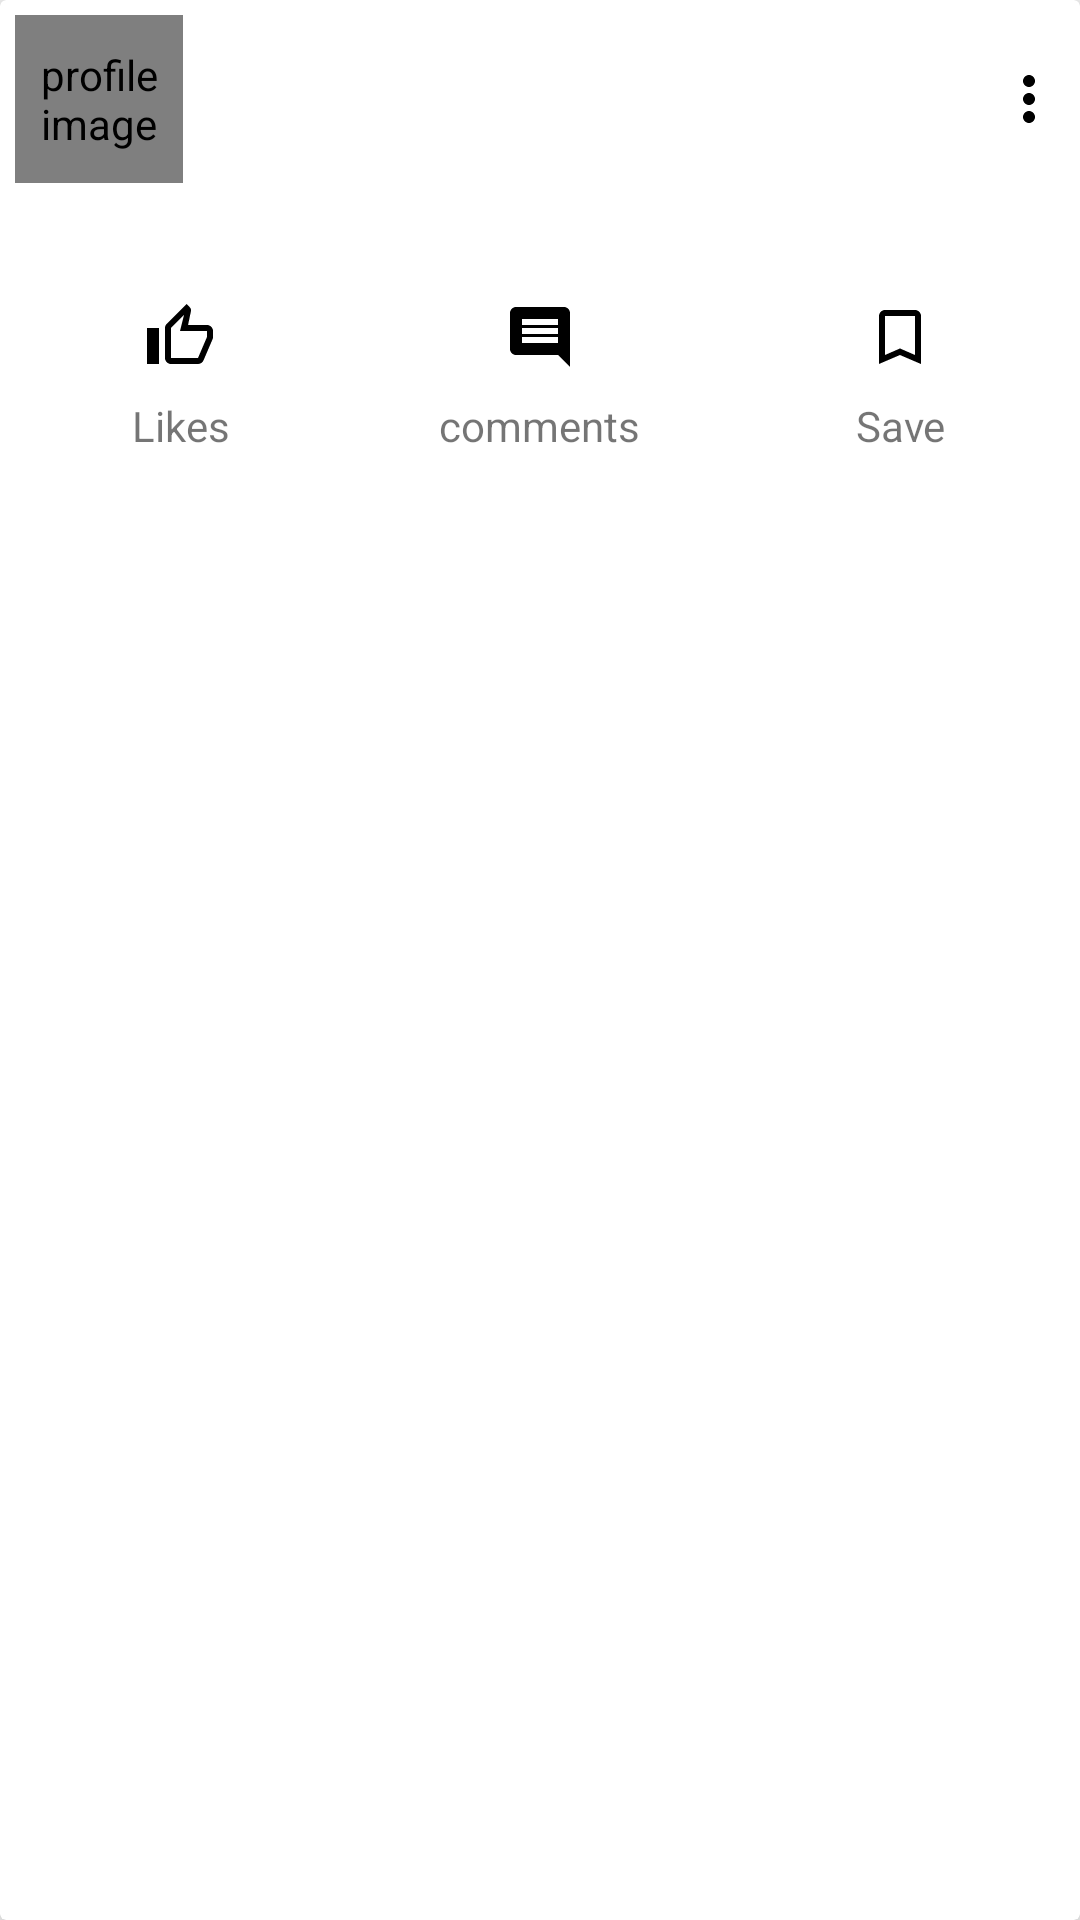

Named icons in this screenshot (1080*1920) and their centers, [x,y]:
dot: [1029,99]
